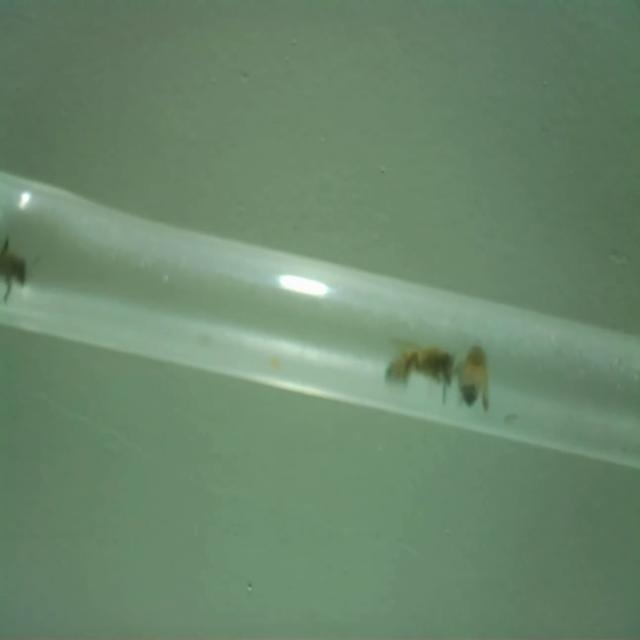Honeybee-Detection: (385, 336, 455, 404), (458, 344, 491, 412), (0, 236, 28, 303)
